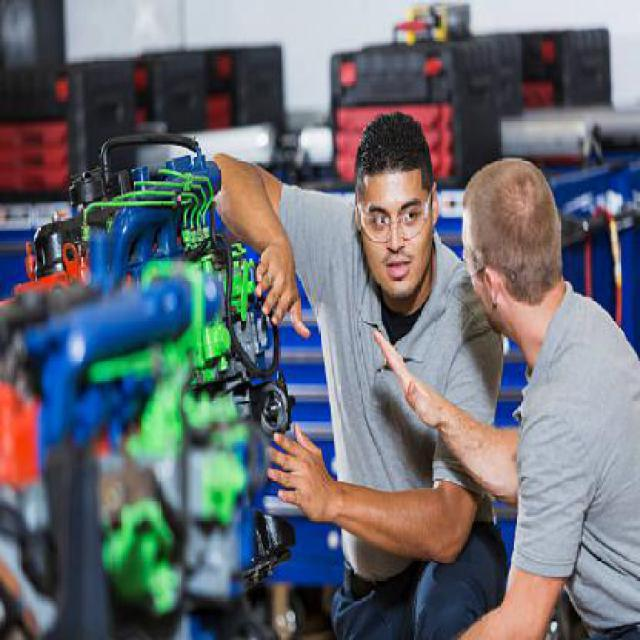glass: (347, 190, 433, 255)
head: (349, 104, 441, 308), (460, 150, 571, 306)
person: (209, 78, 464, 635), (435, 126, 639, 635)
